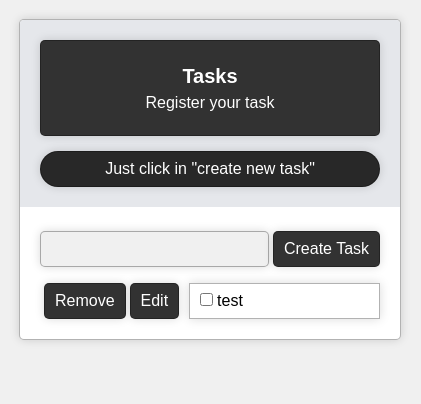
Scenario: Pages - Task Page › full workflow: create, check and remove tasks
Type "Workflow Test Task" into the field at (154,249), box top-left (40, 231), bottom-right (269, 267)
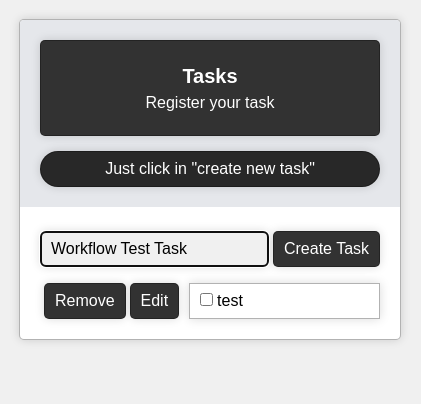
Click the button "Create Task" at (327,249), box top-left (273, 231), bottom-right (380, 267)
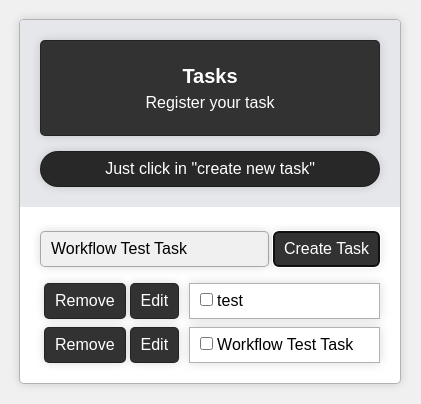
expect the text "test" is shown: met, box top-left (217, 292), bottom-right (243, 309)
expect the text "Workflow Test Task" is shown: met, box top-left (217, 336), bottom-right (353, 353)
Click the 1st checkbox at (207,299), box top-left (200, 293), bottom-right (213, 306)
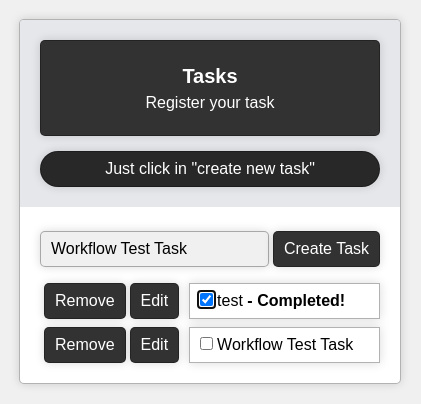
Click the button "Remove" in the row of "Workflow Test Task" at (85,345), box top-left (44, 327), bottom-right (126, 363)
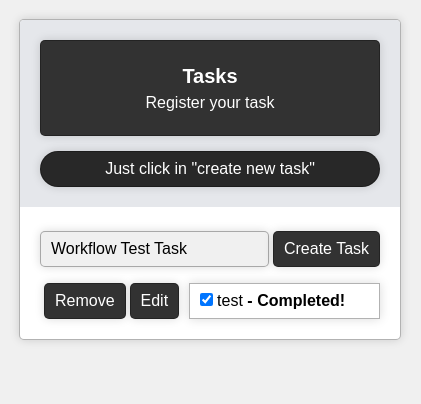
expect the text "test" is shown: met, box top-left (217, 292), bottom-right (243, 309)
expect the number of buttons "Remove" is 1: met, box top-left (44, 283), bottom-right (126, 319)
